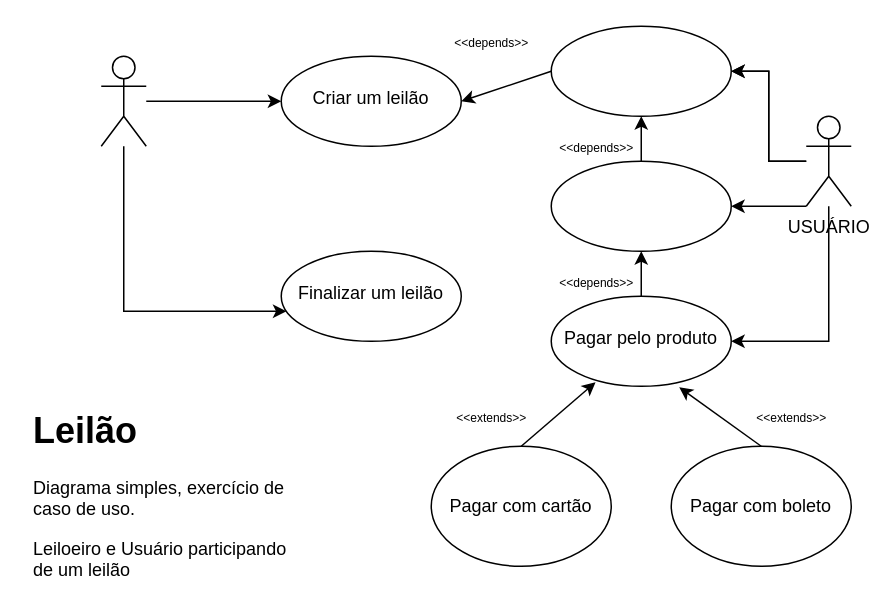
Some shapes in this 896 by 608 pixel diagram are drawn without their labels. The shapes that lost their labels are listed below. From the top down, each one's centre as x and y in pixels, then its label:
At (640,70): "Dar lances em um leilão".
At (123,100): "LEILOEIRO".
At (640,205): "Ganhar um leilão".
